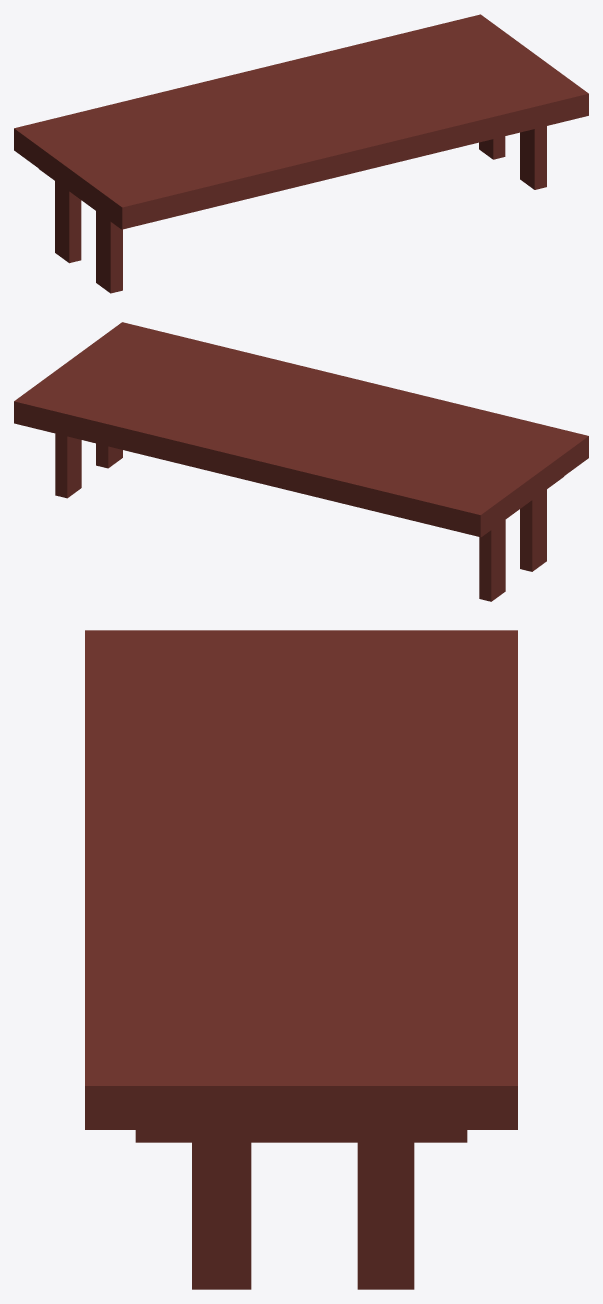
Rendered from MesaTurron.fbx.
3 views of the same model, one above another, from view 1: azimuth 30°, elevation 25°; view 2: azimuth 150°, elevation 25°; view 3: azimuth 270°, elevation 25° (orthographic). The views are drawn at different scales.
Parts seen in each view (by area): view 1: Cube.002; view 2: Cube.002; view 3: Cube.002.
Part boxes in pixels (x1,y1,x2,y2): Cube.002: [14, 14, 588, 293]; Cube.002: [14, 322, 588, 601]; Cube.002: [85, 630, 517, 1289].
Size of the model in its own units: 226 by 90.87 by 50.61.
